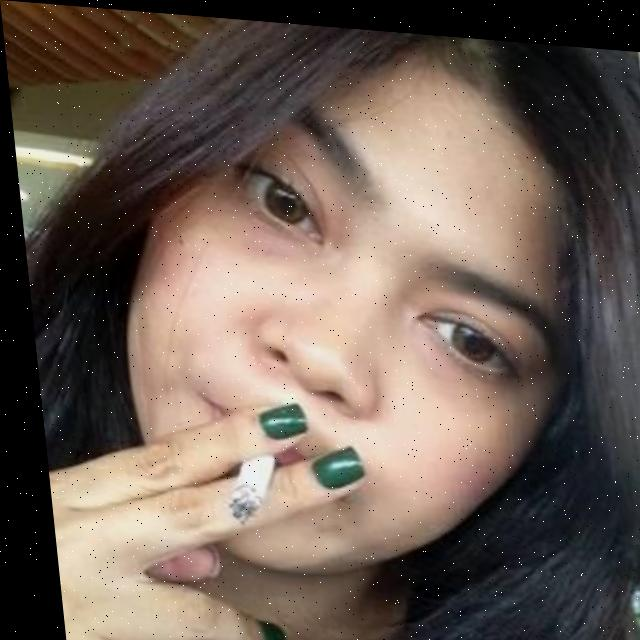cigarette: (210, 449, 272, 527)
